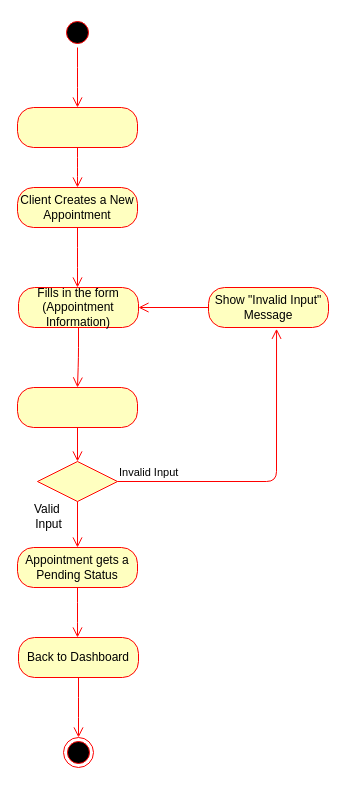
Image size: 346x785. Some labels were removed from this diagram. The shapes that lost their labels are listed below. From the top down, each one's box as (x1, y1, x2, y2) in pixels, then its label:
(16, 106, 138, 148): Go to Dashboard/ Appointments
(16, 386, 138, 428): Choose from the Discount Coupons to use
